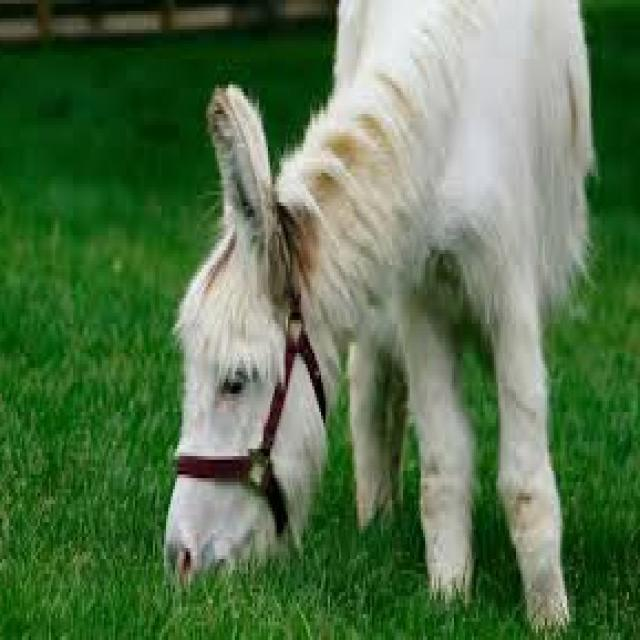donkey: (166, 0, 593, 622)
